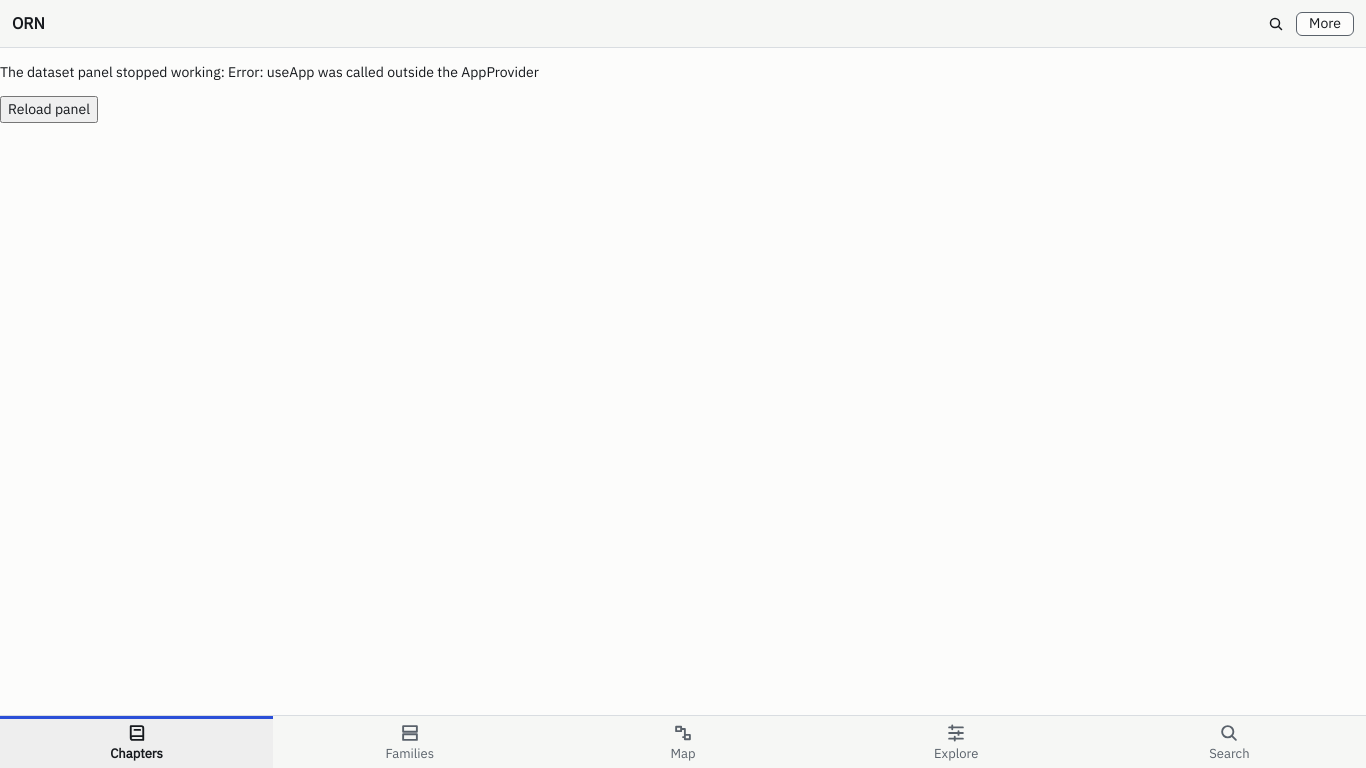
Test case: phone › study: More has File (with Undo import) and no Workbench, no Undo, no Redo, no Drafts; no marker
This screenshot has width=1366, height=768.
Click the button "More" at (1325, 24), box [1296,12,1354,36]
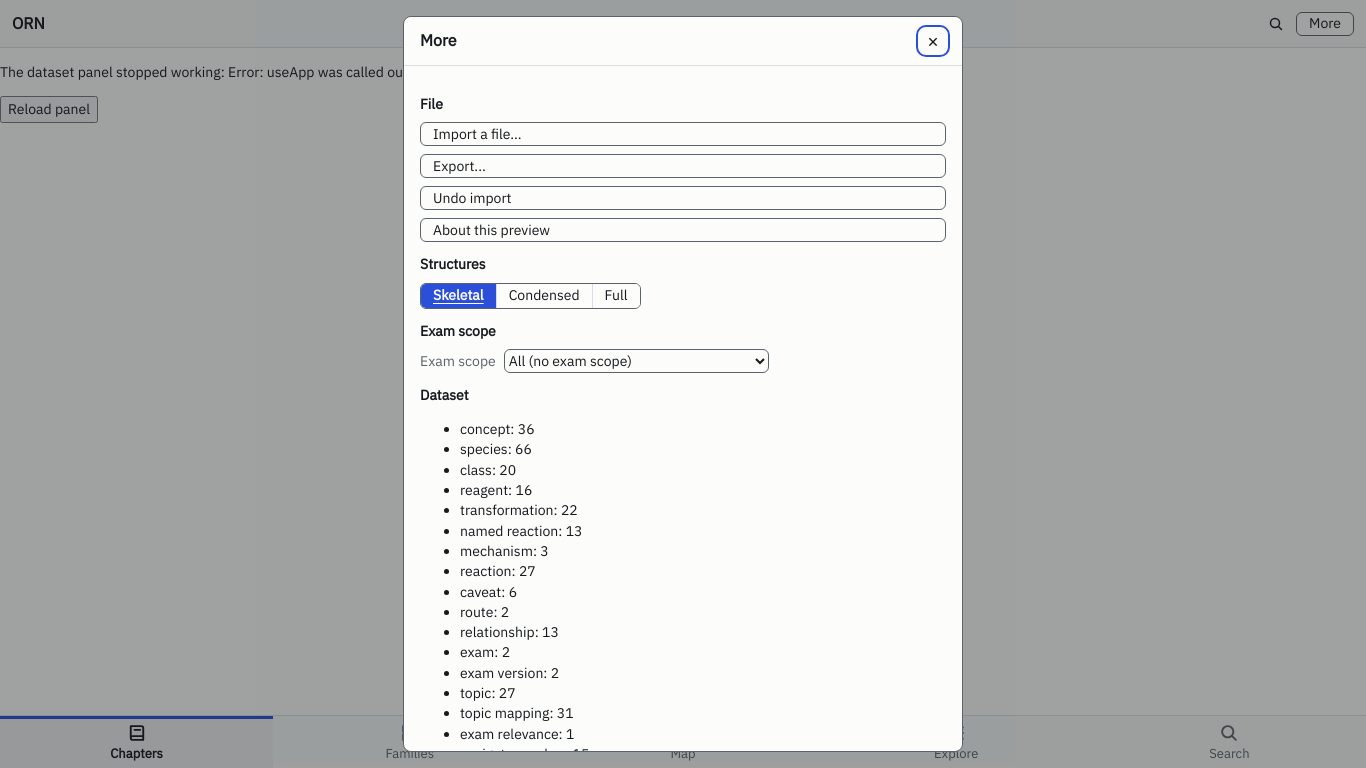
Expected: the button "Undo import" is shown, [420,186,946,210]
